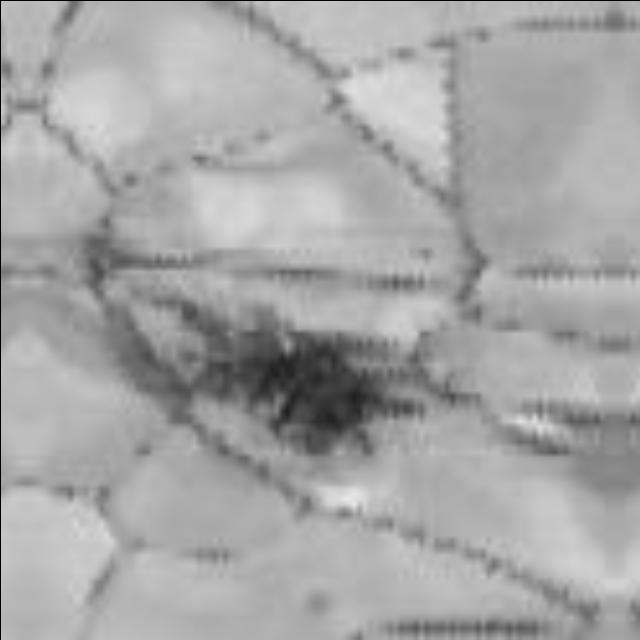good_void: (160, 295, 421, 461)
